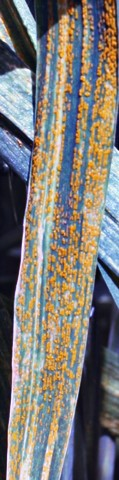Leaf Rust: (14, 4, 119, 450)
